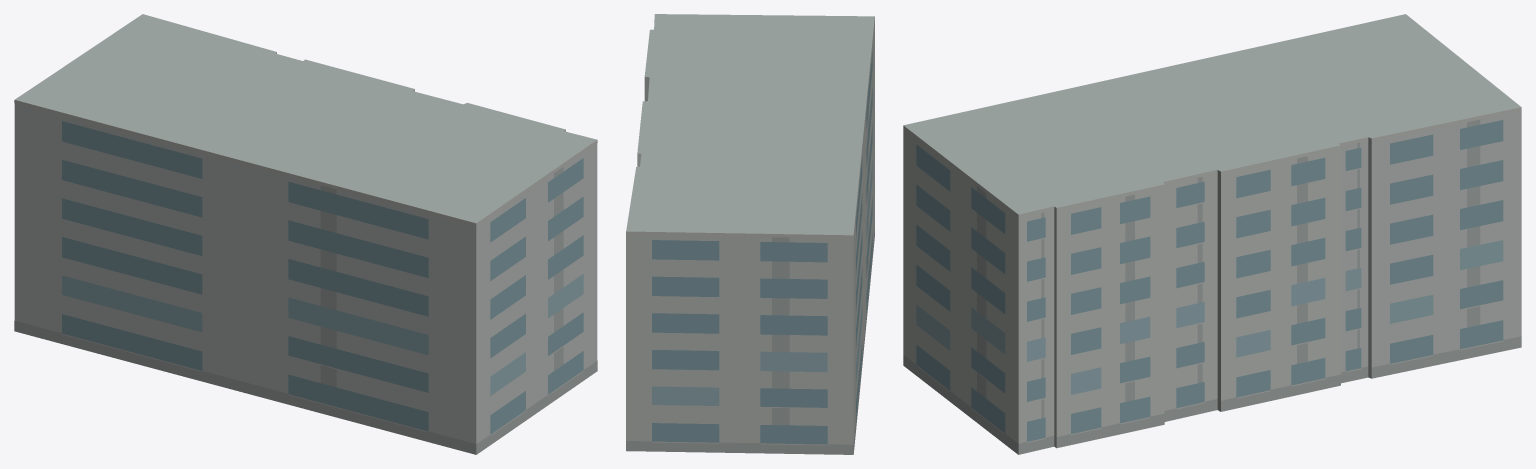
File: survey-upis-32835613.glb
3 views of the same model, side by side, from view 1: azimuth 30°, elevation 25°; view 2: azimuth 150°, elevation 25°; view 3: azimuth 270°, elevation 25° (orthographic). The views are drawn at different scales.
Visible parts, largest first — view 1: survey-upis-32835613.tmp; view 2: survey-upis-32835613.tmp; view 3: survey-upis-32835613.tmp.
Boxes of the visible parts, bbox=[...] form: survey-upis-32835613.tmp: bbox=[14, 14, 597, 454]; survey-upis-32835613.tmp: bbox=[626, 14, 874, 454]; survey-upis-32835613.tmp: bbox=[903, 14, 1521, 454].
Bounding box in the file's own units: 29.12 × 16.25 × 37.92.
